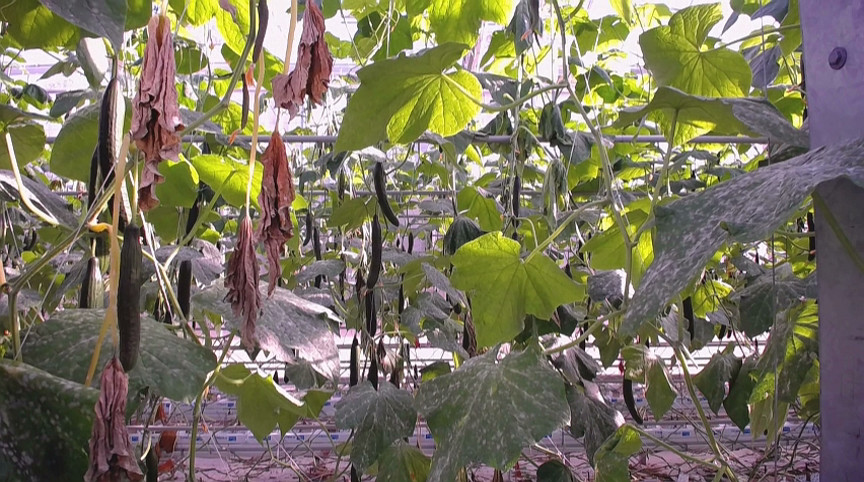cucumber: (99, 78, 133, 232), (118, 225, 143, 373), (375, 160, 397, 227), (79, 257, 104, 310), (366, 214, 381, 289), (623, 378, 645, 426), (178, 258, 191, 320), (349, 336, 360, 387)
